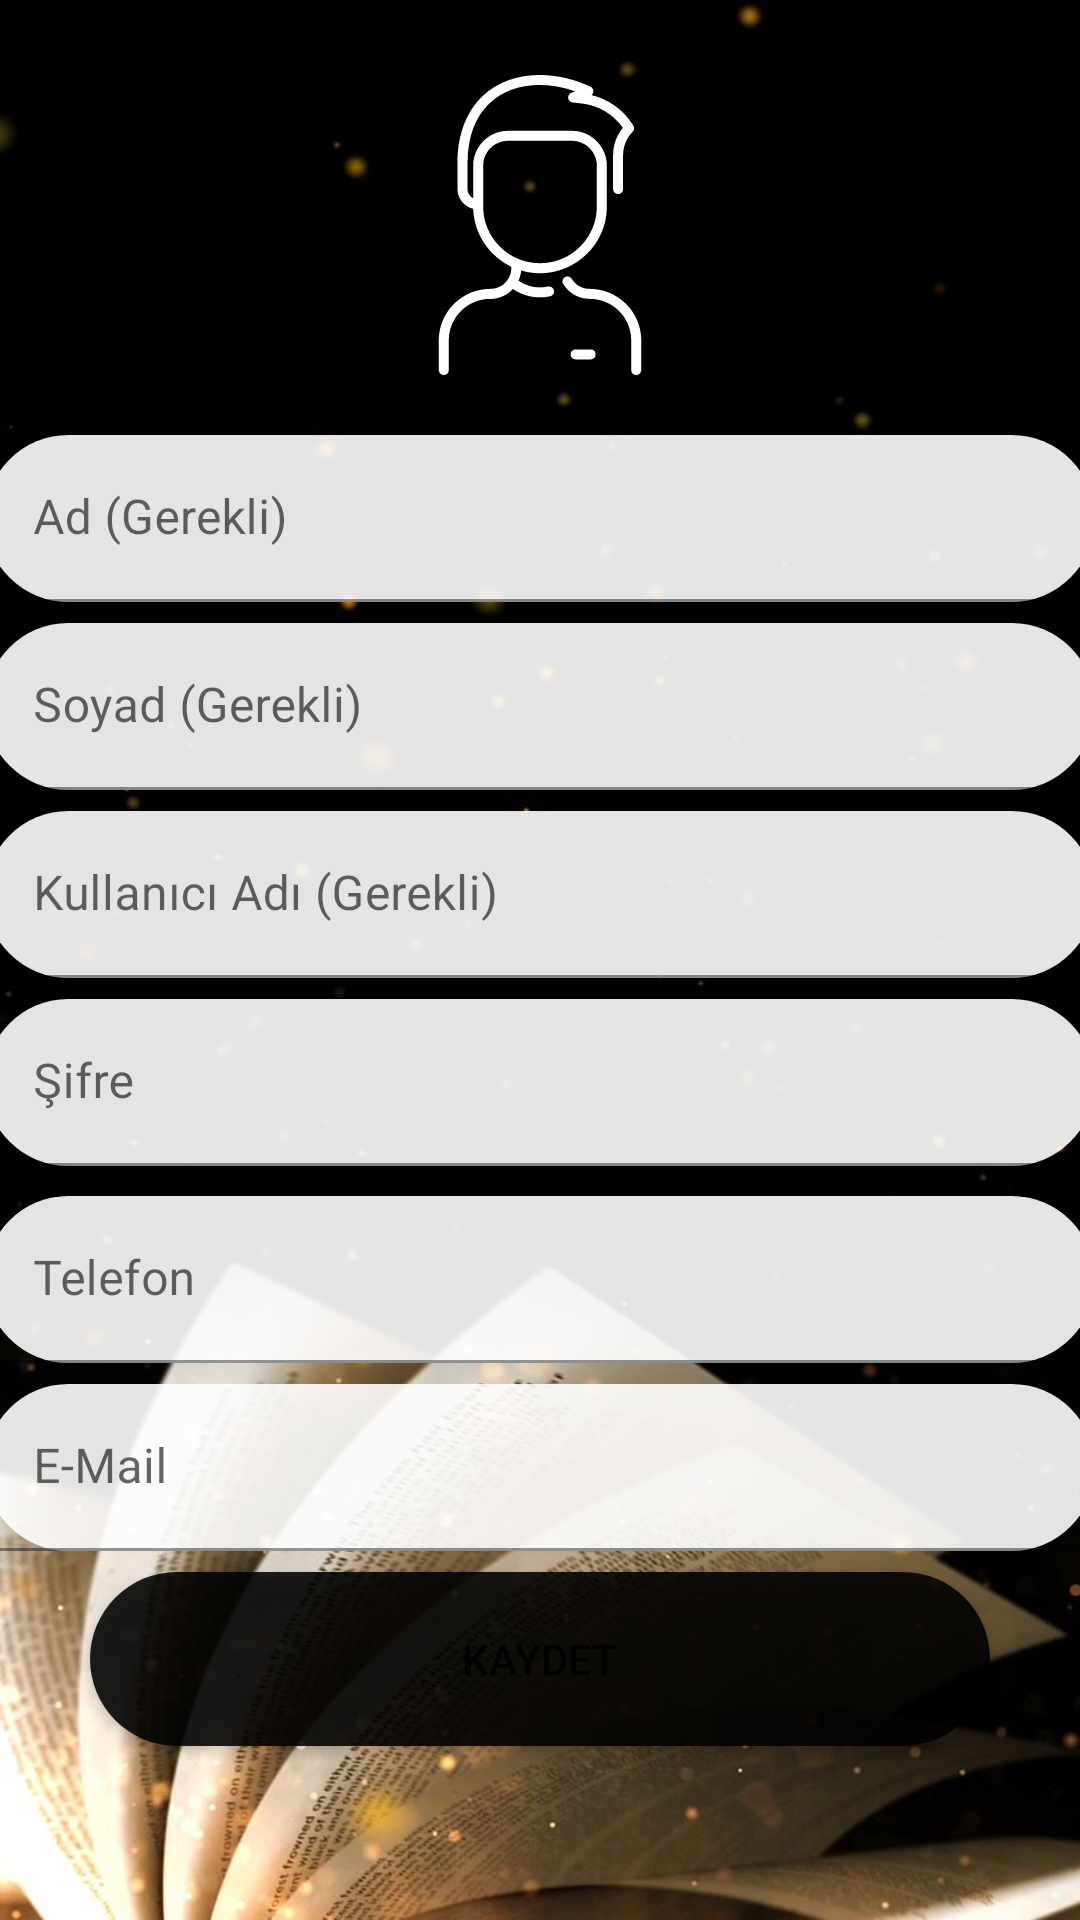

Icons on this 1080 x 1920 Android screen, each with its box as bbox(x1, y1, x2, y2):
man: bbox(333, 75, 642, 375)
